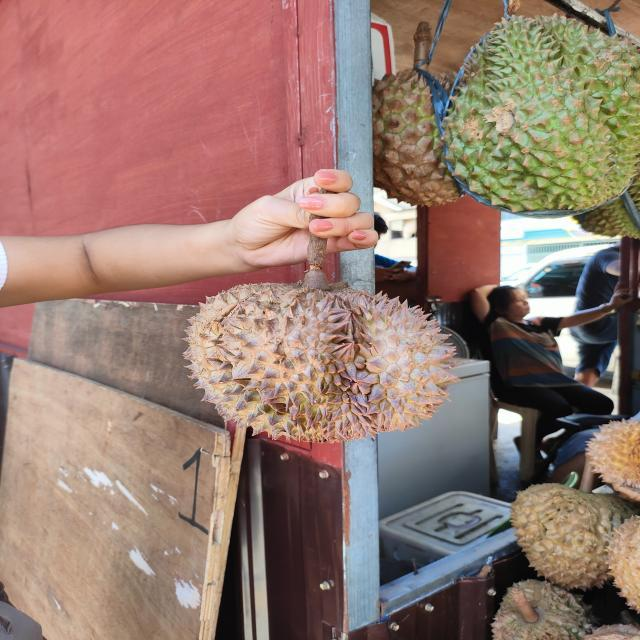mature: (181, 280, 461, 444)
